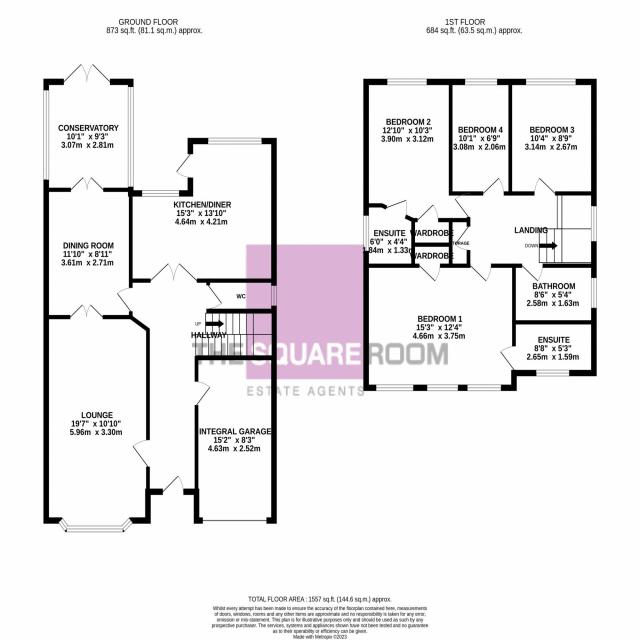DOOR: (132, 439, 150, 468), (162, 474, 184, 496), (499, 345, 517, 371), (385, 199, 408, 219), (418, 263, 441, 283), (116, 286, 133, 313), (175, 153, 193, 178), (206, 284, 223, 310), (469, 263, 492, 282), (521, 263, 544, 282), (454, 193, 471, 218), (534, 177, 556, 196), (417, 203, 439, 222), (483, 177, 504, 196)
DOUBLE DOOR: (63, 63, 111, 86), (149, 261, 198, 283), (69, 303, 104, 319), (70, 176, 104, 192)
ROOM: (43, 304, 151, 533), (363, 242, 517, 392), (129, 137, 277, 283), (363, 78, 471, 223), (43, 176, 133, 320), (43, 63, 134, 193), (508, 78, 597, 196), (448, 78, 513, 196)
WINDOW: (58, 517, 134, 533), (127, 86, 134, 187), (43, 89, 50, 181), (207, 137, 262, 145), (525, 78, 577, 86), (141, 189, 180, 198), (387, 78, 427, 86), (376, 384, 414, 392), (467, 384, 502, 392), (535, 369, 570, 377), (464, 78, 498, 86), (426, 384, 459, 392), (363, 215, 370, 252), (591, 205, 597, 242), (591, 277, 597, 309), (271, 285, 277, 307)
